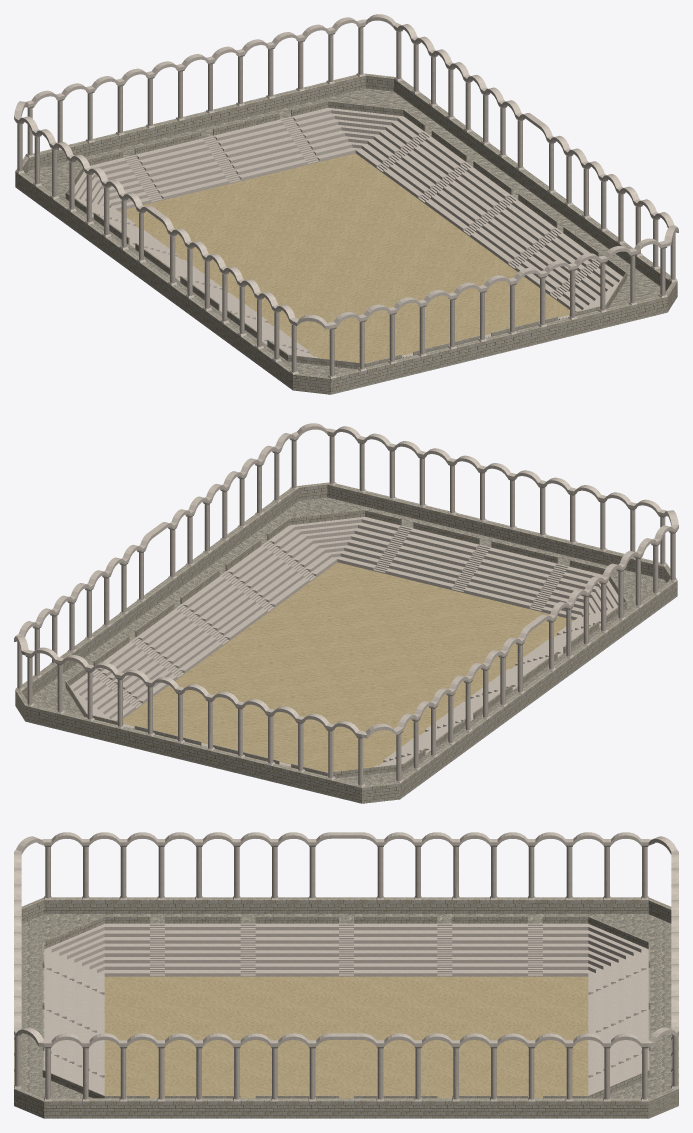
Rendered from macarena.obj.
3 views of the same model, one above another, from view 1: azimuth 30°, elevation 25°; view 2: azimuth 150°, elevation 25°; view 3: azimuth 270°, elevation 25° (orthographic). The views are drawn at different scales.
Parts seen in each view (by area): view 1: macarena_Cube.026; view 2: macarena_Cube.026; view 3: macarena_Cube.026.
Boxes of the visible parts, left/top/right/bottom form: macarena_Cube.026: left=14, top=14, right=678, bottom=394; macarena_Cube.026: left=14, top=423, right=678, bottom=803; macarena_Cube.026: left=14, top=832, right=678, bottom=1118.
Size of the model in its own units: 64 by 17.54 by 88.
